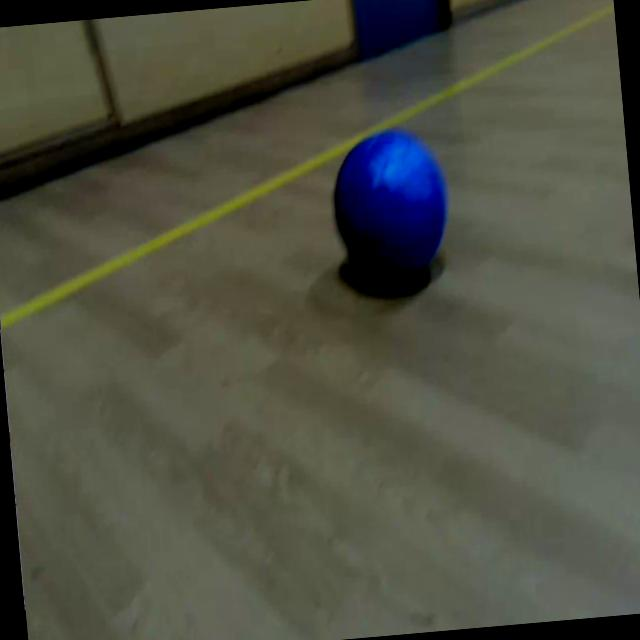blue_ball: (326, 123, 456, 287)
